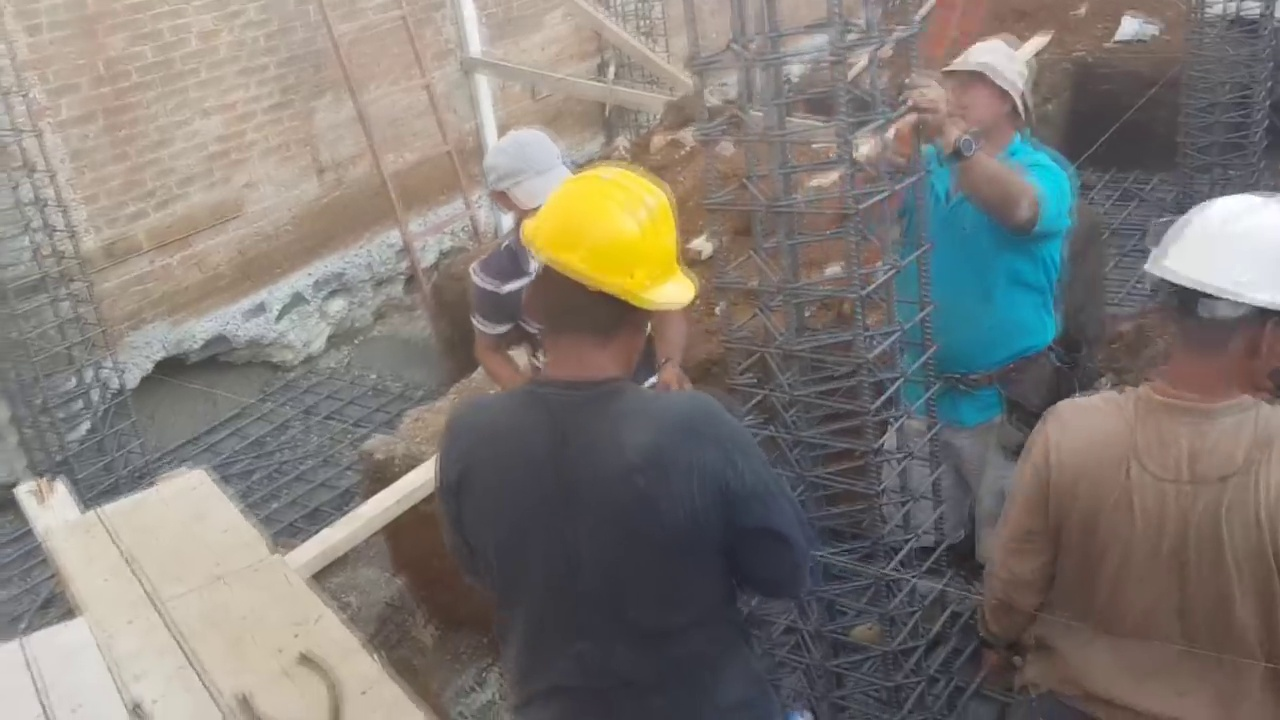helmet: (514, 154, 694, 326), (1140, 191, 1280, 328)
helmet-off: (928, 43, 1047, 162), (479, 115, 567, 223)
helmet-on: (507, 153, 691, 382), (1136, 187, 1280, 420)
person: (425, 131, 817, 703), (989, 200, 1280, 720), (863, 42, 1071, 617), (453, 115, 580, 396)
